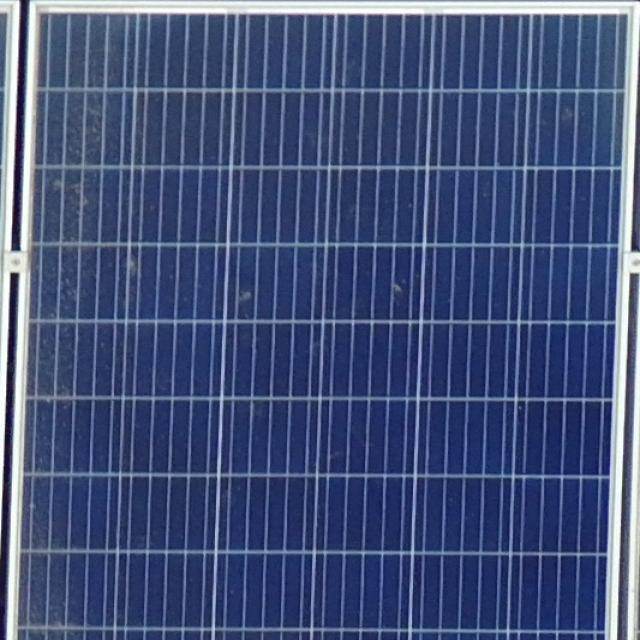Dust: (39, 8, 117, 635)
